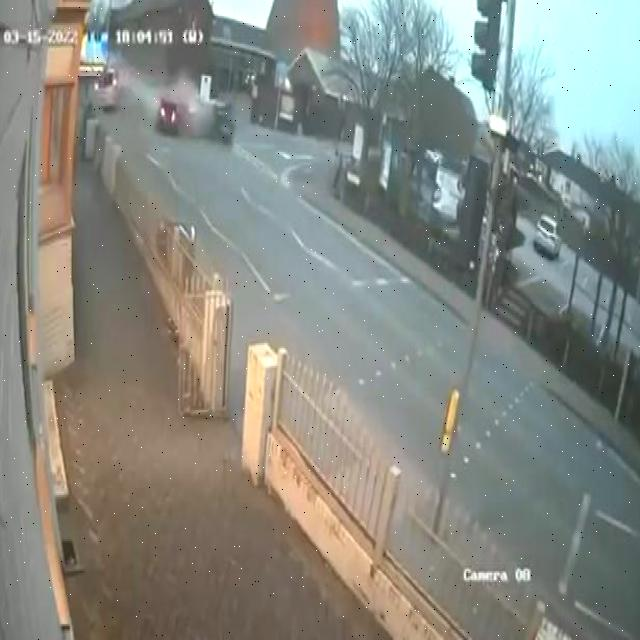accident: (152, 73, 243, 152)
